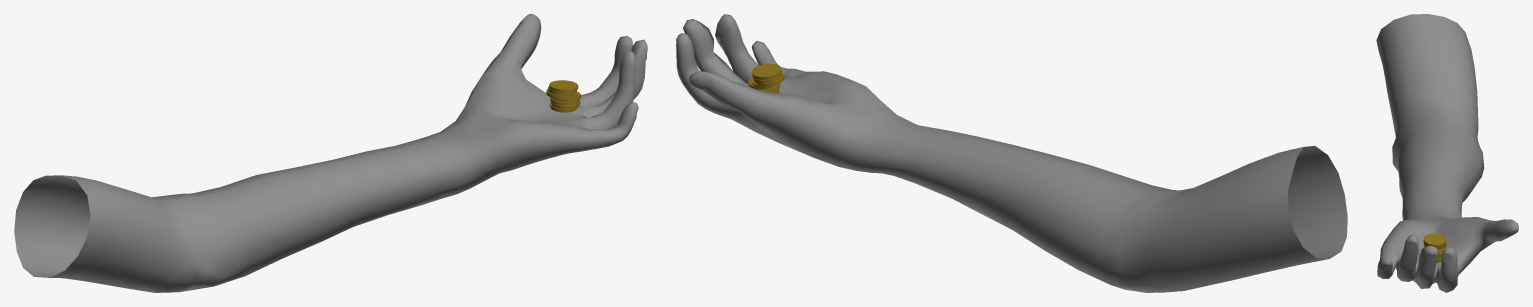
Rendered from arm_torch_2.fbx.
3 views of the same model, side by side, from view 1: azimuth 30°, elevation 25°; view 2: azimuth 150°, elevation 25°; view 3: azimuth 270°, elevation 25° (orthographic). The views are drawn at different scales.
Parts seen in each view (by area): view 1: Arm_torch_2; view 2: Arm_torch_2; view 3: Arm_torch_2, c1.
Boxes of the visible parts, x1,y1,x2,y2 form: Arm_torch_2: (14,14,647,292); Arm_torch_2: (676,14,1347,292); Arm_torch_2: (1376,14,1518,292); c1: (1423,233,1446,247).
Size of the model in its own units: 127 by 29.61 by 31.74.
